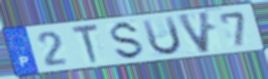2: (37, 30, 71, 69)
7: (217, 9, 249, 48)
S: (109, 19, 147, 61)
T: (70, 22, 101, 66)
U: (139, 15, 184, 58)
V: (174, 9, 213, 55)
